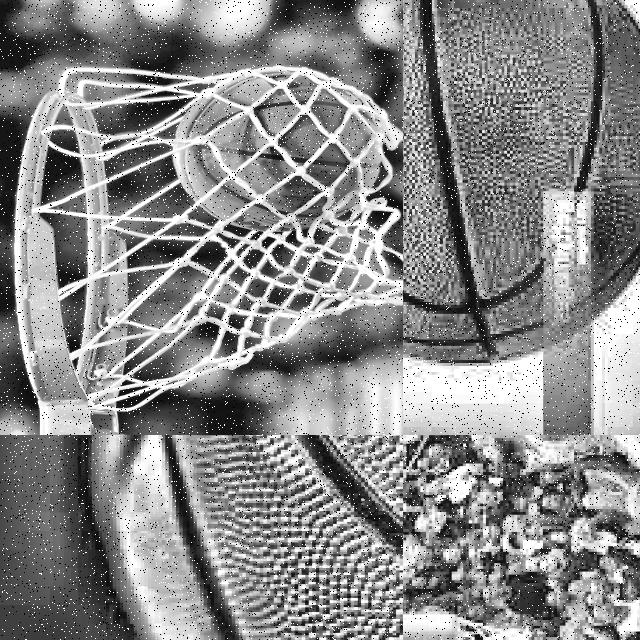Basketball: (95, 435, 403, 640), (172, 69, 388, 231)
